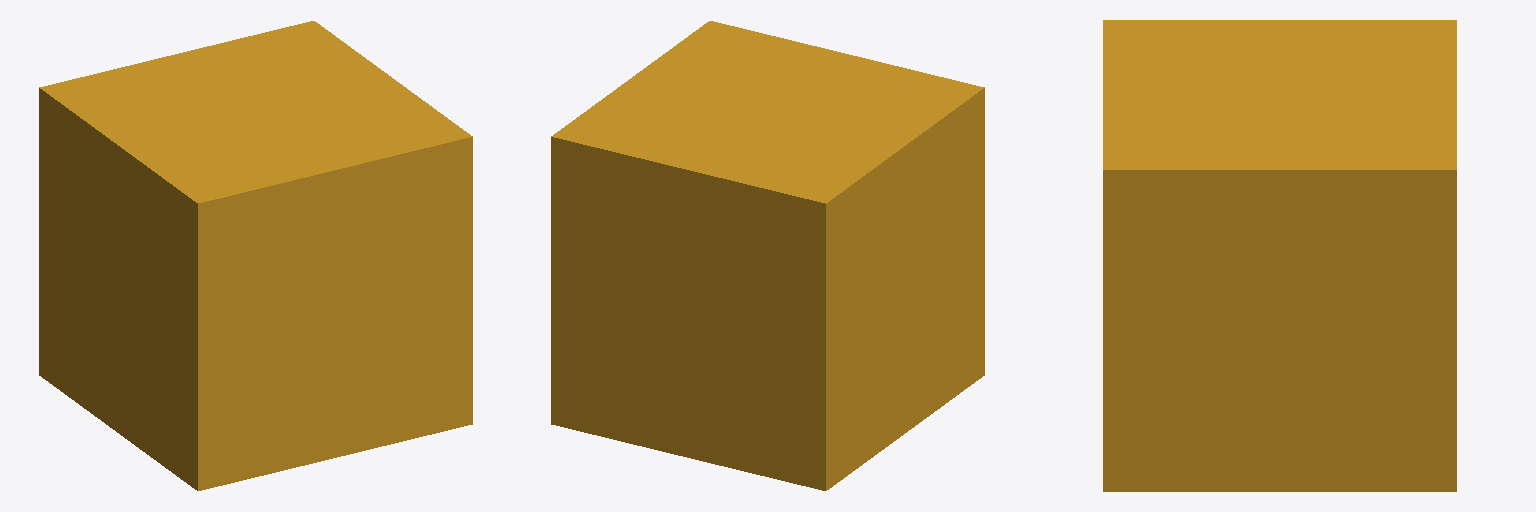
The robot description file, URDF, robot "box_50x50x50":
<?xml version="1.0"?>
<robot name="box_50x50x50">
  <!-- Dimensions are in metres. Uniform 50 g mass is a provisional value. -->
  <link name="box">
    <inertial>
      <origin xyz="0 0 0" rpy="0 0 0"/>
      <mass value="0.05"/>
      <inertia ixx="0.00002083333333333333" ixy="0" ixz="0"
               iyy="0.00002083333333333333" iyz="0" izz="0.00002083333333333333"/>
    </inertial>
    <visual>
      <origin xyz="0 0 0" rpy="0 0 0"/>
      <geometry>
        <box size="0.05 0.05 0.05"/>
      </geometry>
      <material name="box_gold">
        <color rgba="0.85 0.65 0.20 1"/>
      </material>
    </visual>
    <collision>
      <origin xyz="0 0 0" rpy="0 0 0"/>
      <geometry>
        <box size="0.05 0.05 0.05"/>
      </geometry>
    </collision>
  </link>
</robot>

--- What the picture shows (computed from the rendered views, not written in the file) ---
The picture shows the robot from 3 angles, left to right: view 1: azimuth 30°, elevation 25°; view 2: azimuth 150°, elevation 25°; view 3: azimuth 270°, elevation 25°; orthographic projection.
Model box_50x50x50 with 1 links and 0 joints (none), rooted at box, posed all joints at 0.
Visible links, largest first — view 1: box; view 2: box; view 3: box.
Link boxes in pixels (bbox=[...]): box: bbox=[39, 21, 472, 490]; box: bbox=[551, 21, 984, 490]; box: bbox=[1103, 20, 1456, 491].
Size in the robot's own frame: 0.05 by 0.05 by 0.05 metres.
Geometry: primitives only (box / cylinder / sphere), no mesh files.
